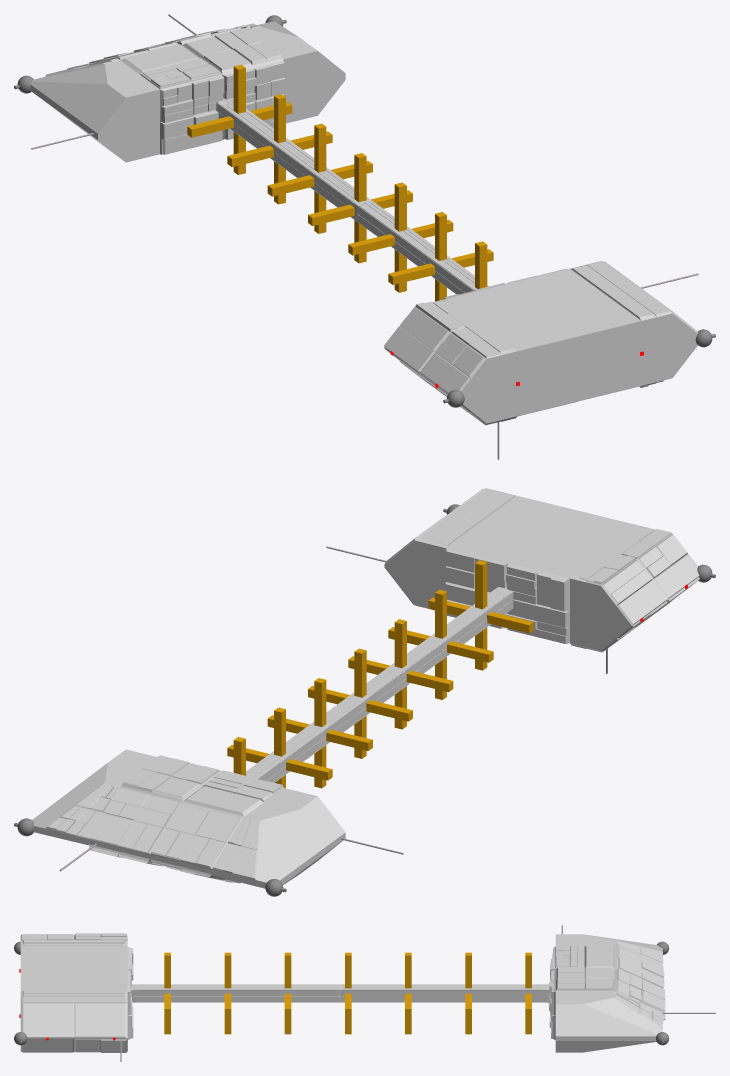
File: trader.glb
3 views of the same model, one above another, from view 1: azimuth 30°, elevation 25°; view 2: azimuth 150°, elevation 25°; view 3: azimuth 270°, elevation 25° (orthographic). The views are drawn at different scales.
Visible parts, largest first — view 1: Cube, Cube.003, discombobulated_mesh.011, Cube.005, Cube.006, discombobulated_mesh.016, discombobulated_mesh.014, Cube.004, discombobulated_mesh.002, Cube.002, Cube.001, discombobulated_mesh.006 (+4 smaller); view 2: discombobulated_mesh.014, Cube, discombobulated_mesh.011, Cube.003, Cube.005, discombobulated_mesh.009, Cube.006, discombobulated_mesh.002, Cube.001, Cube.002, Cube.004, discombobulated_mesh.006 (+7 smaller); view 3: discombobulated_mesh.011, discombobulated_mesh.006, Cube.004, Cube, discombobulated_mesh.014, Cube.005, discombobulated_mesh.001, Cube.006, Cube.003, discombobulated_mesh.005, discombobulated_mesh.012, discombobulated_mesh.021 (+4 smaller).
Part boxes in pixels (bbox=[...]): Cube: bbox=[446, 268, 641, 415]; Cube.003: bbox=[30, 60, 159, 162]; discombobulated_mesh.011: bbox=[215, 98, 488, 294]; Cube.005: bbox=[233, 64, 487, 301]; Cube.006: bbox=[187, 102, 493, 284]; discombobulated_mesh.016: bbox=[163, 62, 285, 154]; discombobulated_mesh.014: bbox=[89, 28, 281, 87]; Cube.004: bbox=[247, 21, 345, 123]; discombobulated_mesh.002: bbox=[384, 307, 484, 392]; Cube.002: bbox=[641, 313, 697, 385]; Cube.001: bbox=[461, 351, 517, 423]; discombobulated_mesh.006: bbox=[572, 261, 697, 387]; discombobulated_mesh.014: bbox=[88, 755, 282, 866]; Cube: bbox=[446, 496, 640, 578]; discombobulated_mesh.011: bbox=[246, 587, 513, 782]; Cube.003: bbox=[212, 788, 345, 888]; Cube.005: bbox=[233, 560, 487, 788]; discombobulated_mesh.009: bbox=[445, 550, 567, 643]; Cube.006: bbox=[227, 597, 533, 780]; discombobulated_mesh.002: bbox=[603, 534, 699, 624]; Cube.001: bbox=[570, 578, 631, 650]; Cube.002: bbox=[384, 540, 445, 608]; Cube.004: bbox=[32, 749, 156, 845]; discombobulated_mesh.006: bbox=[384, 488, 515, 610]; discombobulated_mesh.011: bbox=[130, 984, 550, 1002]; discombobulated_mesh.006: bbox=[21, 990, 126, 1052]; Cube.004: bbox=[555, 992, 662, 1052]; Cube: bbox=[20, 946, 127, 991]; discombobulated_mesh.014: bbox=[556, 944, 665, 1011]; Cube.005: bbox=[164, 952, 531, 1034]; discombobulated_mesh.001: bbox=[21, 933, 126, 946]; Cube.006: bbox=[164, 993, 531, 1014]; Cube.003: bbox=[555, 934, 662, 951]; discombobulated_mesh.005: bbox=[20, 991, 127, 1051]; discombobulated_mesh.012: bbox=[553, 946, 662, 1039]; discombobulated_mesh.021: bbox=[615, 992, 663, 1027].
Bounding box in the file's own units: 48 × 18.5 × 105.
